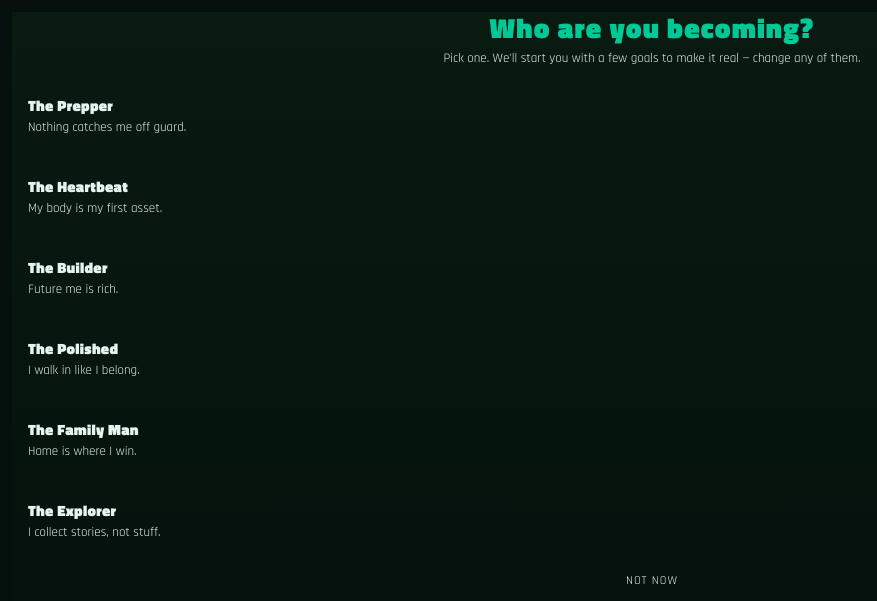
ArchetypePicker › omits templates the user already has
This screenshot has width=877, height=601.
Click the text "The Explorer" at (72, 511), box [28, 499, 116, 522]
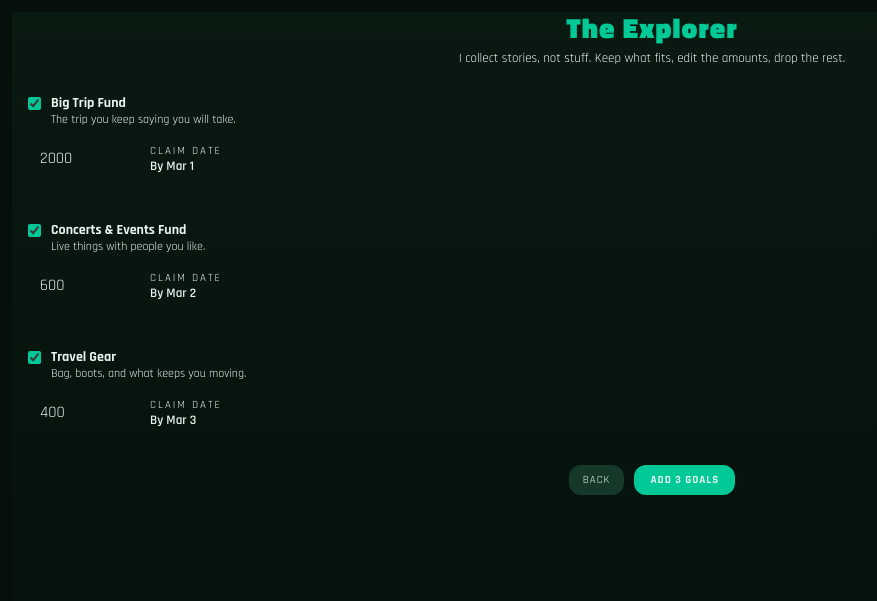
Result: the button "Add 3 goals" is shown at [634, 465, 735, 495]
